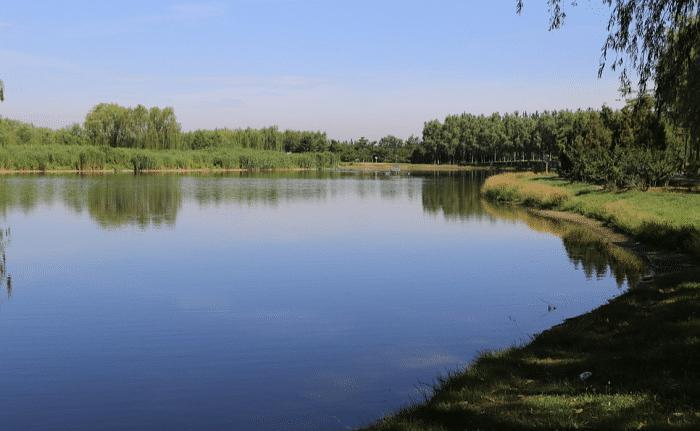sea_river: (0, 207, 596, 316)
sky_cloud: (18, 198, 656, 328)
